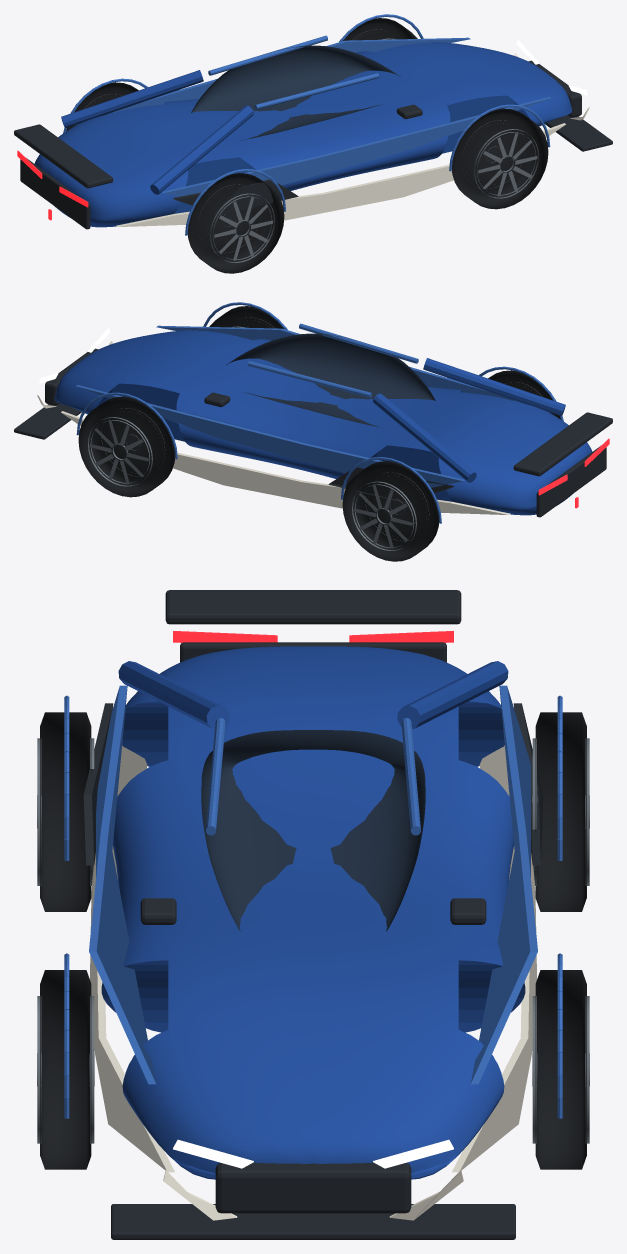
The model's file is kestrel-original.glb.
3 renders of one model, top to bottom at view 1: azimuth 30°, elevation 25°; view 2: azimuth 150°, elevation 25°; view 3: azimuth 270°, elevation 25°, orthographic. The views are drawn at different scales.
Visible parts, largest first — view 1: Body, WheelFrontRight, WheelRearRight, WheelFrontLeft, WheelRearLeft; view 2: Body, WheelRearLeft, WheelFrontLeft, WheelFrontRight, WheelRearRight; view 3: Body, WheelFrontLeft, WheelFrontRight, WheelRearLeft, WheelRearRight.
Part boxes in pixels (x1=…): Body: x1=14, y1=14, x2=612, y2=235; WheelFrontRight: x1=452, y1=108, x2=548, y2=209; WheelRearRight: x1=187, y1=173, x2=284, y2=273; WheelFrontLeft: x1=343, y1=18, x2=417, y2=40; WheelRearLeft: x1=66, y1=82, x2=138, y2=131; Body: x1=14, y1=302, x2=612, y2=523; WheelRearLeft: x1=342, y1=461, x2=439, y2=561; WheelFrontLeft: x1=78, y1=396, x2=174, y2=497; WheelFrontRight: x1=209, y1=306, x2=283, y2=328; WheelRearRight: x1=488, y1=370, x2=560, y2=419; Body: x1=64, y1=590, x2=562, y2=1239; WheelFrontLeft: x1=532, y1=970, x2=589, y2=1169; WheelFrontRight: x1=37, y1=970, x2=94, y2=1169; WheelRearLeft: x1=532, y1=712, x2=589, y2=911; WheelRearRight: x1=37, y1=712, x2=94, y2=911.
Bounding box in the file's own units: 4.98 × 1.21 × 2.34.
